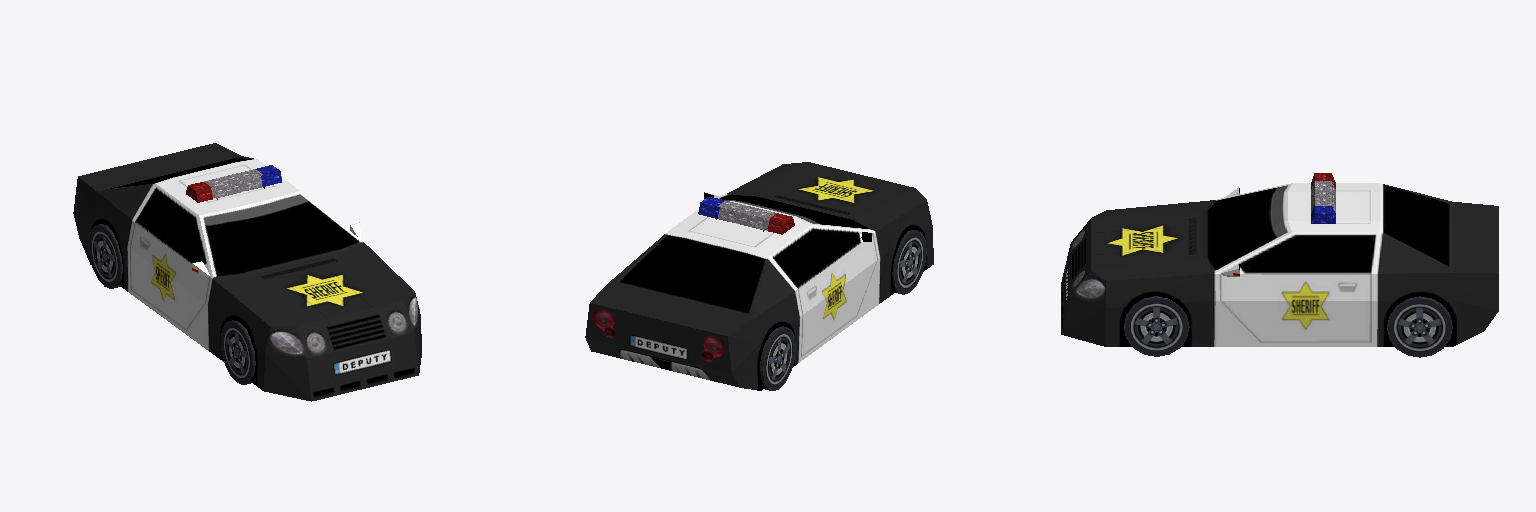
3 views of the same model, side by side, from view 1: azimuth 30°, elevation 25°; view 2: azimuth 150°, elevation 25°; view 3: azimuth 270°, elevation 25° (orthographic).
Visible parts, largest first — view 1: car; view 2: car; view 3: car.
Boxes of the visible parts, <box> form: car: <box>73,143,421,401</box>; car: <box>585,162,933,390</box>; car: <box>1061,173,1498,357</box>.
Size of the model in its own units: 1.99 by 1.41 by 4.49.
Materials: 1 (1 with a texture image).